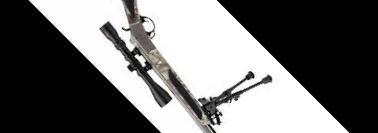larga: (99, 0, 273, 133)
